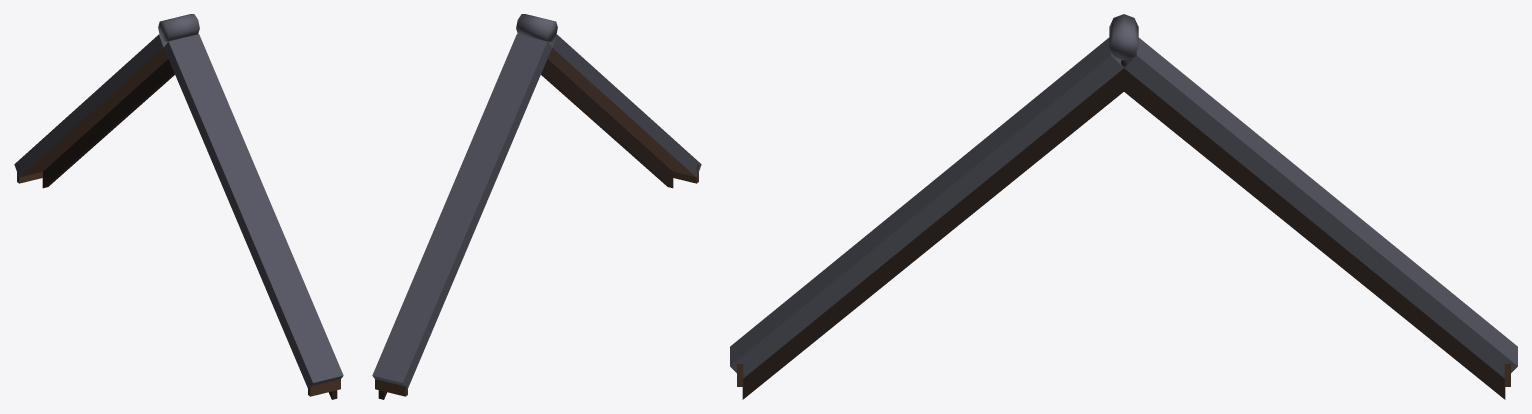
The model's file is kit_timber_slate_w3_end.glb.
3 views of the same model, side by side, from view 1: azimuth 30°, elevation 25°; view 2: azimuth 150°, elevation 25°; view 3: azimuth 270°, elevation 25° (orthographic). The views are drawn at different scales.
Visible parts, largest first — view 1: kit_timber_slate_w3_end; view 2: kit_timber_slate_w3_end; view 3: kit_timber_slate_w3_end.
Part boxes in pixels (<box>): kit_timber_slate_w3_end: <box>14,14,343,399</box>; kit_timber_slate_w3_end: <box>372,14,701,399</box>; kit_timber_slate_w3_end: <box>730,14,1517,399</box>.
Size of the model in its own units: 0.22 by 1.91 by 3.72.
